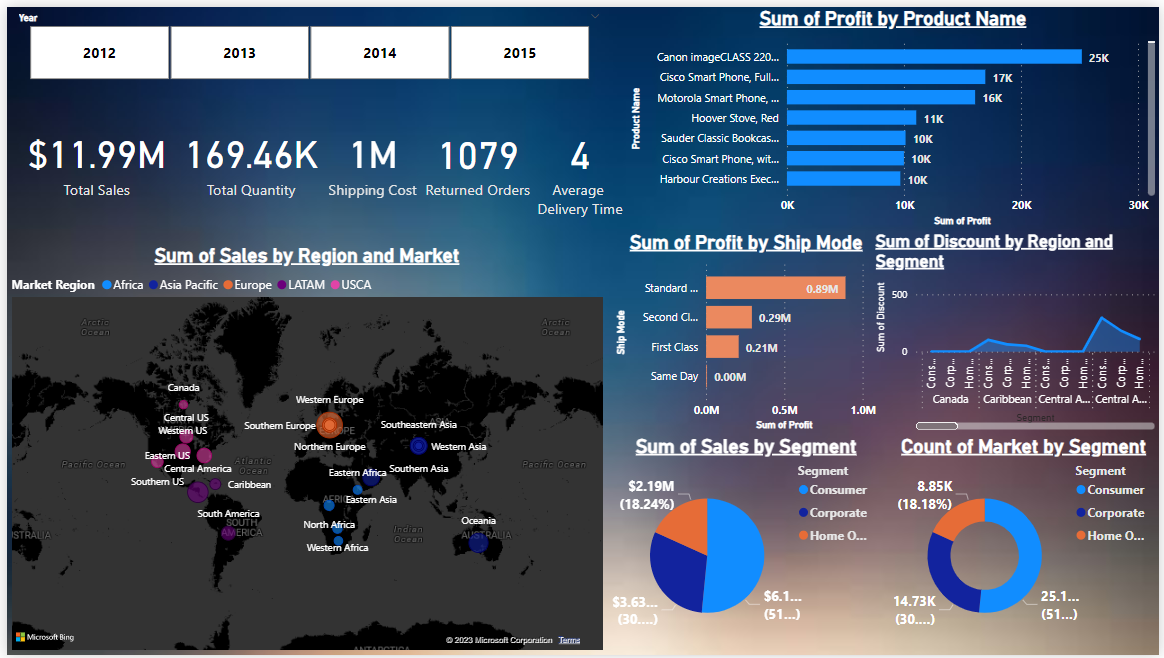

The dashboard page shown, as its layout file describes it:
{"tool":"powerbi","page":{"name":"Page 1","canvas":[1280,720],"ordinal":0},"visuals":[{"type":"card","fields":{"Values":["Sum(Orders.Sales)"]},"box":[0,72.8,199,194.2],"z":0},{"type":"card","fields":{"Values":["Sum(Orders.Quantity)"]},"box":[171.5,72.8,199,194.2],"z":1000},{"type":"card","fields":{"Values":["Avg(Orders.Delivery Days)"]},"box":[574.4,74.4,123,192.5],"z":2000},{"type":"slicer","fields":{"Values":["Orders.Year"]},"box":[0,0,670.9,86.9],"z":3000},{"type":"card","fields":{"Values":["CountNonNull(Returns.Returned)"]},"box":[448.2,74.4,148.9,192.5],"z":4000},{"type":"map","fields":{"Category":["Orders.Region"],"Size":["Sum(Orders.Sales)"],"Series":["Orders.Market"]},"box":[0,263.7,666.6,456.3],"z":5000},{"type":"barChart","fields":{"Y":["Sum(Orders.Profit)"],"Category":["Orders.Product Name"]},"box":[687.6,0,592.2,247.6],"z":6000},{"type":"barChart","fields":{"Y":["Sum(Orders.Profit)"],"Category":["Orders.Ship Mode"]},"box":[671.5,247.6,299.3,226.5],"z":7000},{"type":"card","fields":{"Values":["Sum(Orders.Shipping Cost)"]},"box":[336.5,72.8,139.1,194.2],"z":8000},{"type":"pieChart","fields":{"Category":["Orders.Segment"],"Y":["Sum(Orders.Sales)"]},"box":[671.5,475.7,299.3,244.3],"z":9000},{"type":"donutChart","fields":{"Category":["Orders.Segment"],"Y":["CountNonNull(Orders.Market)"]},"box":[980.5,475.7,299.3,244.3],"z":10000},{"type":"stackedAreaChart","fields":{"Category":["Orders.Region","Orders.Segment"],"Y":["Sum(Orders.Discount)"]},"box":[959.5,247.6,320.4,226.5],"z":11000}]}

Visuals, with their boxes in screenshot pixels (x1, y1, x2, y2), scaled from the page's 1280x720 canvas onto the 1164x658 screenshot:
card - Sum(Orders.Sales): (x1=0, y1=67, x2=181, y2=244)
card - Sum(Orders.Quantity): (x1=156, y1=67, x2=337, y2=244)
card - Avg(Orders.Delivery Days): (x1=522, y1=68, x2=634, y2=244)
slicer - Orders.Year: (x1=0, y1=0, x2=610, y2=79)
card - CountNonNull(Returns.Returned): (x1=408, y1=68, x2=543, y2=244)
map - Orders.Region x Sum(Orders.Sales): (x1=0, y1=241, x2=606, y2=657)
barChart - Sum(Orders.Profit) x Orders.Product Name: (x1=625, y1=0, x2=1163, y2=226)
barChart - Sum(Orders.Profit) x Orders.Ship Mode: (x1=611, y1=226, x2=883, y2=433)
card - Sum(Orders.Shipping Cost): (x1=306, y1=67, x2=432, y2=244)
pieChart - Orders.Segment x Sum(Orders.Sales): (x1=611, y1=435, x2=883, y2=657)
donutChart - Orders.Segment x CountNonNull(Orders.Market): (x1=892, y1=435, x2=1163, y2=657)
stackedAreaChart - Orders.Region x Orders.Segment: (x1=873, y1=226, x2=1163, y2=433)
